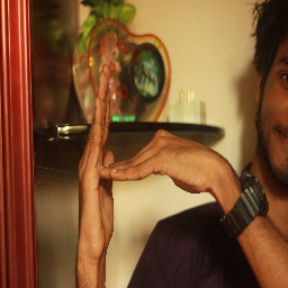Z: (68, 68, 219, 261)
